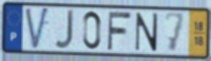0: (82, 10, 102, 51)
7: (163, 11, 186, 54)
F: (106, 10, 133, 52)
J: (53, 9, 75, 51)
N: (134, 11, 160, 52)
V: (23, 6, 51, 52)
